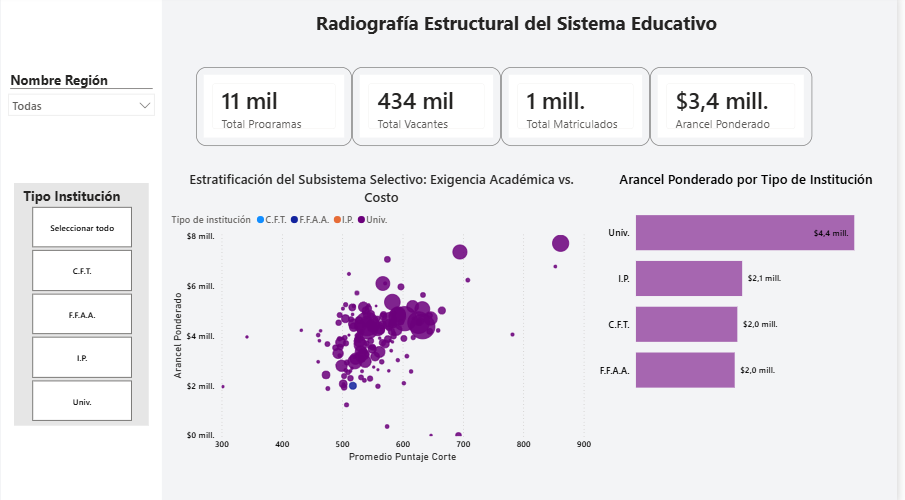

Layout of this report page (visuals, bound fields, positions):
{"tool":"powerbi","page":{"name":"Estructura de Mercado","canvas":[1280,720],"ordinal":0},"visuals":[{"type":"shape","box":[9.9,0,228.2,721.4],"z":0},{"type":"slicer","fields":{"Values":["dim_geografia.nombre_region"]},"box":[9.9,100.6,228.2,99.2],"z":1000},{"type":"cardVisual","fields":{"Data":["_Medidas.Total Programas"]},"box":[286.3,100.6,221.1,112],"z":2000},{"type":"cardVisual","fields":{"Data":["_Medidas.Total Vacantes"]},"box":[507.4,100.6,211.2,112],"z":3000},{"type":"cardVisual","fields":{"Data":["_Medidas.Total Matriculados"]},"box":[718.6,100.6,211.2,112],"z":4000},{"type":"cardVisual","fields":{"Data":["_Medidas.Arancel Ponderado"]},"box":[929.8,100.6,229.6,112],"z":5000},{"type":"scatterChart","title":"Estratificación del Subsistema Selectivo: Exigencia Académica vs. Costo","fields":{"Category":["dim_carrera.carrera_generica"],"X":["_Medidas.Promedio Puntaje Corte"],"Y":["_Medidas.Arancel Ponderado"],"Series":["dim_institucion.tipo_institucion"],"Size":["_Medidas.Total Matriculados"]},"box":[246.6,246.6,605.2,419.5],"z":6000},{"type":"clusteredBarChart","title":"Arancel Ponderado por Tipo de Institución","fields":{"Category":["dim_institucion.tipo_institucion"],"Y":["_Medidas.Arancel Ponderado"]},"box":[851.8,246.6,428,341.6],"z":7000},{"type":"textbox","box":[246.6,21.3,1013.4,58.1],"z":8000},{"type":"slicer","fields":{"Values":["dim_institucion.tipo_institucion"]},"box":[28.3,265,191.3,344.4],"z":9000}]}

Visuals, with their boxes in screenshot pixels (x1, y1, x2, y2), scaled from the page's 1280x720 canvas onto the 905x500 screenshot:
shape: x1=7, y1=0, x2=168, y2=499
slicer - dim_geografia.nombre_region: x1=7, y1=70, x2=168, y2=139
cardVisual - _Medidas.Total Programas: x1=202, y1=70, x2=359, y2=148
cardVisual - _Medidas.Total Vacantes: x1=359, y1=70, x2=508, y2=148
cardVisual - _Medidas.Total Matriculados: x1=508, y1=70, x2=657, y2=148
cardVisual - _Medidas.Arancel Ponderado: x1=657, y1=70, x2=820, y2=148
"Estratificación del Subsistema Selectivo: Exigencia Académica vs. Costo" scatterChart: x1=174, y1=171, x2=602, y2=463
"Arancel Ponderado por Tipo de Institución" clusteredBarChart: x1=602, y1=171, x2=904, y2=408
textbox: x1=174, y1=15, x2=891, y2=55
slicer - dim_institucion.tipo_institucion: x1=20, y1=184, x2=155, y2=423
